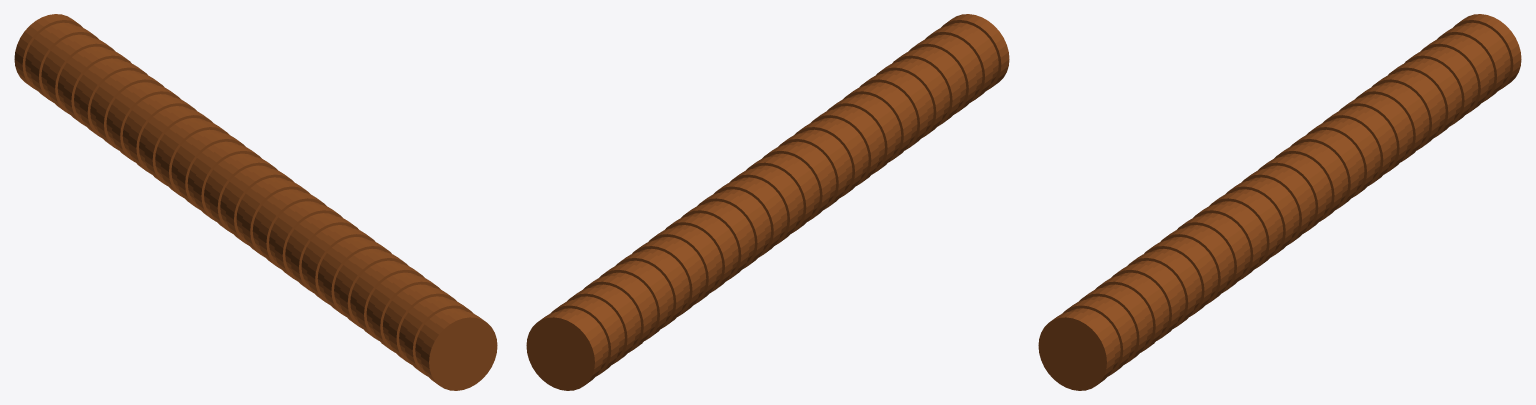
File: Lasso.glb
3 renders of one model, left to right at view 1: azimuth 30°, elevation 25°; view 2: azimuth 150°, elevation 25°; view 3: azimuth 330°, elevation 25°, orthographic.
Parts seen in each view (by area): view 1: Cylinder; view 2: Cylinder; view 3: Cylinder.
Part boxes in pixels (left/top/right/bottom): Cylinder: left=14, top=14, right=497, bottom=390; Cylinder: left=526, top=14, right=1009, bottom=390; Cylinder: left=1038, top=14, right=1521, bottom=390.
Bounding box in the file's own units: 1 × 1 × 10.48.
